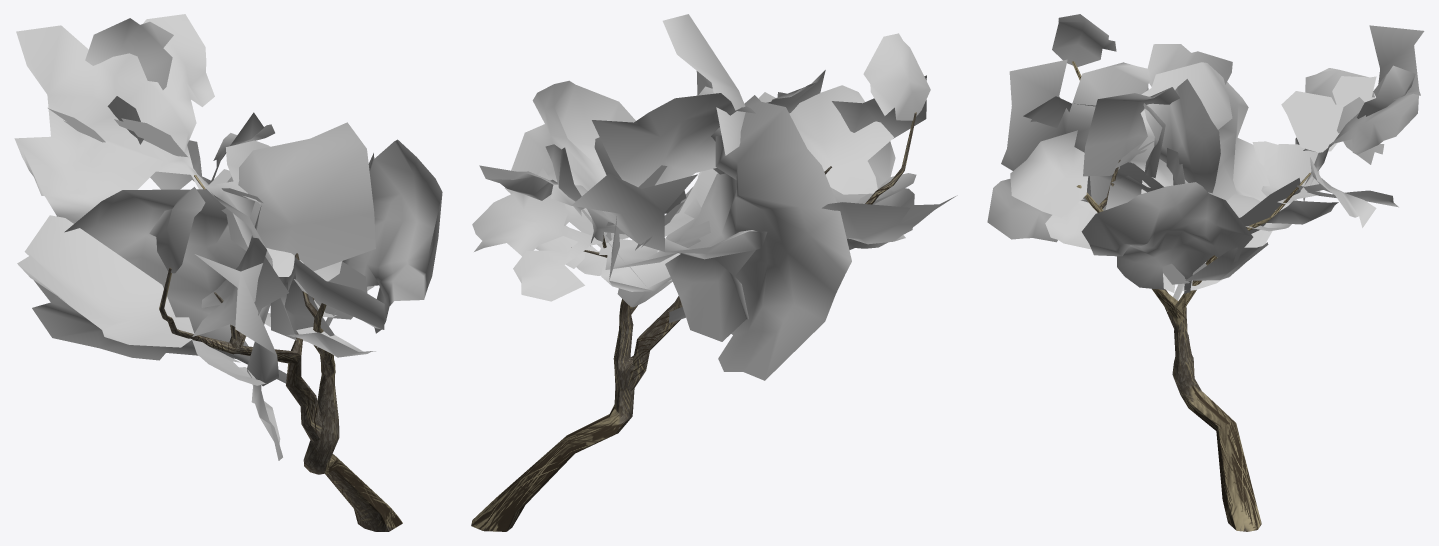
The model's file is CI_Tree_MountainLaurel02_MOD_v3.fbx.
3 renders of one model, left to right at view 1: azimuth 30°, elevation 25°; view 2: azimuth 150°, elevation 25°; view 3: azimuth 270°, elevation 25°, orthographic. The views are drawn at different scales.
Parts seen in each view (by area): view 1: Tree_MountainLaurel_Branch_01_004_01Backup, Tree_MountainLaurel_Branch_08_005_01Backup, Tree_MountainLaurel_Branch_03_003_01Backup, Tree_MountainLaurel_Branch_05_005_01Backup, Tree_MountainLaurel_Branch_03_004_01Backup, Tree_MountainLaurel_02_001_01Backup, Tree_MountainLaurel_Branch_01_003_01Backup, Tree_MountainLaurel_Branch_06_007_01Backup, Tree_MountainLaurel_Branch_04_003_01Backup, Tree_MountainLaurel_Branch_08_008_01Backup, Tree_MountainLaurel_Branch_06_010_01Backup, Tree_MountainLaurel_Branch_02_004_01Backup (+8 smaller); view 2: Tree_MountainLaurel_Branch_03_003_01Backup, Tree_MountainLaurel_Branch_01_004_01Backup, Tree_MountainLaurel_Branch_02_003_01Backup, Tree_MountainLaurel_02_001_01Backup, Tree_MountainLaurel_Branch_03_004_01Backup, Tree_MountainLaurel_Branch_02_004_01Backup, Tree_MountainLaurel_Branch_04_003_01Backup, Tree_MountainLaurel_Branch_01_003_01Backup, Tree_MountainLaurel_Branch_06_010_01Backup, Tree_MountainLaurel_Branch_08_005_01Backup, Tree_MountainLaurel_Branch_05_005_01Backup, Tree_MountainLaurel_Branch_05_007_01Backup (+4 smaller); view 3: Tree_MountainLaurel_Branch_03_004_01Backup, Tree_MountainLaurel_Branch_01_003_01Backup, Tree_MountainLaurel_Branch_03_003_01Backup, Tree_MountainLaurel_02_001_01Backup, Tree_MountainLaurel_Branch_01_004_01Backup, Tree_MountainLaurel_Branch_02_003_01Backup, Tree_MountainLaurel_Branch_08_008_01Backup, Tree_MountainLaurel_Branch_08_005_01Backup, Tree_MountainLaurel_Branch_06_006_01Backup, Tree_MountainLaurel_Branch_05_007_01Backup, Tree_MountainLaurel_Branch_06_010_01Backup, Tree_MountainLaurel_Branch_05_005_01Backup (+11 smaller).
Boxes of the visible parts, bbox=[...] form: Tree_MountainLaurel_Branch_01_004_01Backup: bbox=[14, 14, 214, 223]; Tree_MountainLaurel_Branch_08_005_01Backup: bbox=[221, 122, 375, 271]; Tree_MountainLaurel_Branch_03_003_01Backup: bbox=[32, 188, 309, 387]; Tree_MountainLaurel_Branch_05_005_01Backup: bbox=[17, 215, 194, 347]; Tree_MountainLaurel_Branch_03_004_01Backup: bbox=[317, 139, 442, 348]; Tree_MountainLaurel_02_001_01Backup: bbox=[159, 175, 402, 531]; Tree_MountainLaurel_Branch_01_003_01Backup: bbox=[195, 186, 282, 460]; Tree_MountainLaurel_Branch_06_007_01Backup: bbox=[85, 18, 173, 89]; Tree_MountainLaurel_Branch_04_003_01Backup: bbox=[192, 206, 288, 336]; Tree_MountainLaurel_Branch_08_008_01Backup: bbox=[294, 257, 384, 329]; Tree_MountainLaurel_Branch_06_010_01Backup: bbox=[149, 187, 205, 273]; Tree_MountainLaurel_Branch_02_004_01Backup: bbox=[150, 112, 274, 189]; Tree_MountainLaurel_Branch_03_003_01Backup: bbox=[669, 95, 851, 380]; Tree_MountainLaurel_Branch_01_004_01Backup: bbox=[479, 165, 767, 341]; Tree_MountainLaurel_Branch_02_003_01Backup: bbox=[592, 93, 755, 236]; Tree_MountainLaurel_02_001_01Backup: bbox=[471, 112, 916, 531]; Tree_MountainLaurel_Branch_03_004_01Backup: bbox=[505, 80, 635, 247]; Tree_MountainLaurel_Branch_02_004_01Backup: bbox=[472, 167, 602, 301]; Tree_MountainLaurel_Branch_04_003_01Backup: bbox=[758, 85, 893, 194]; Tree_MountainLaurel_Branch_01_003_01Backup: bbox=[698, 70, 926, 249]; Tree_MountainLaurel_Branch_06_010_01Backup: bbox=[863, 33, 930, 120]; Tree_MountainLaurel_Branch_08_005_01Backup: bbox=[662, 14, 745, 155]; Tree_MountainLaurel_Branch_05_005_01Backup: bbox=[822, 195, 957, 244]; Tree_MountainLaurel_Branch_05_007_01Backup: bbox=[599, 221, 710, 269]; Tree_MountainLaurel_Branch_03_004_01Backup: bbox=[1081, 182, 1253, 293]; Tree_MountainLaurel_Branch_01_003_01Backup: bbox=[987, 59, 1165, 242]; Tree_MountainLaurel_Branch_03_003_01Backup: bbox=[1130, 62, 1290, 311]; Tree_MountainLaurel_02_001_01Backup: bbox=[1072, 61, 1310, 531]; Tree_MountainLaurel_Branch_01_004_01Backup: bbox=[1295, 25, 1424, 201]; Tree_MountainLaurel_Branch_02_003_01Backup: bbox=[1090, 79, 1220, 210]; Tree_MountainLaurel_Branch_08_008_01Backup: bbox=[1010, 130, 1088, 217]; Tree_MountainLaurel_Branch_08_005_01Backup: bbox=[1083, 87, 1179, 176]; Tree_MountainLaurel_Branch_06_006_01Backup: bbox=[1281, 91, 1346, 152]; Tree_MountainLaurel_Branch_05_007_01Backup: bbox=[1252, 141, 1320, 203]; Tree_MountainLaurel_Branch_06_010_01Backup: bbox=[1052, 14, 1116, 66]; Tree_MountainLaurel_Branch_05_005_01Backup: bbox=[1147, 44, 1232, 86].
Size of the model in its own units: 154 by 166 by 166.
